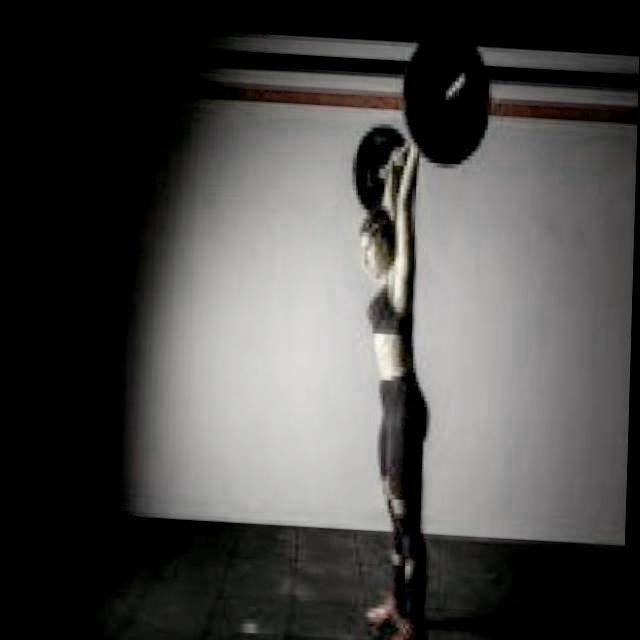barbell: (399, 20, 507, 168)
